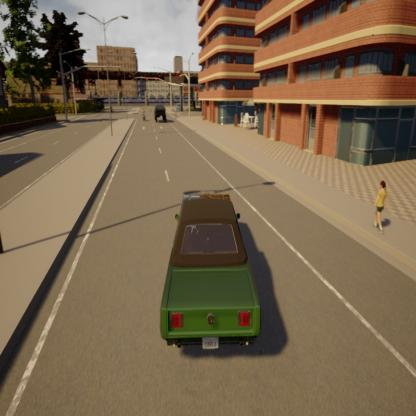Cars: (151, 180, 264, 362), (153, 103, 168, 124)
Pedestrian: (370, 176, 391, 242)
